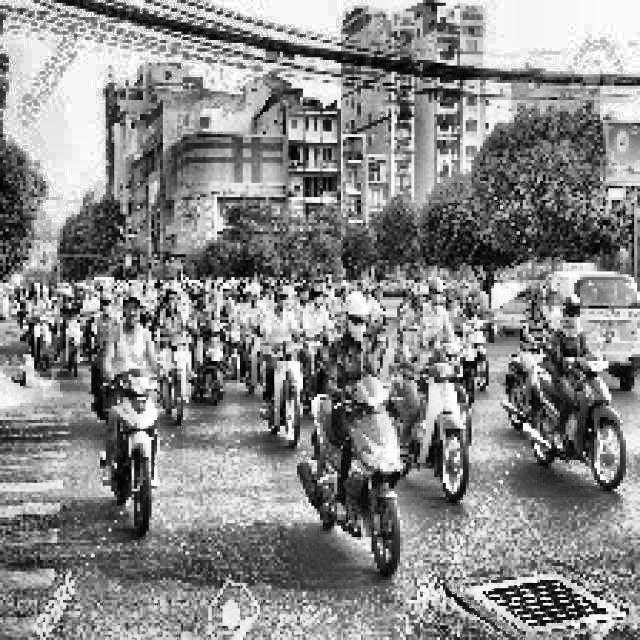motorcycle: (306, 370, 406, 581), (88, 360, 172, 540), (529, 350, 628, 496), (415, 356, 477, 502), (267, 330, 313, 446), (189, 299, 227, 402), (227, 308, 251, 384), (60, 292, 83, 369), (27, 300, 50, 366)
